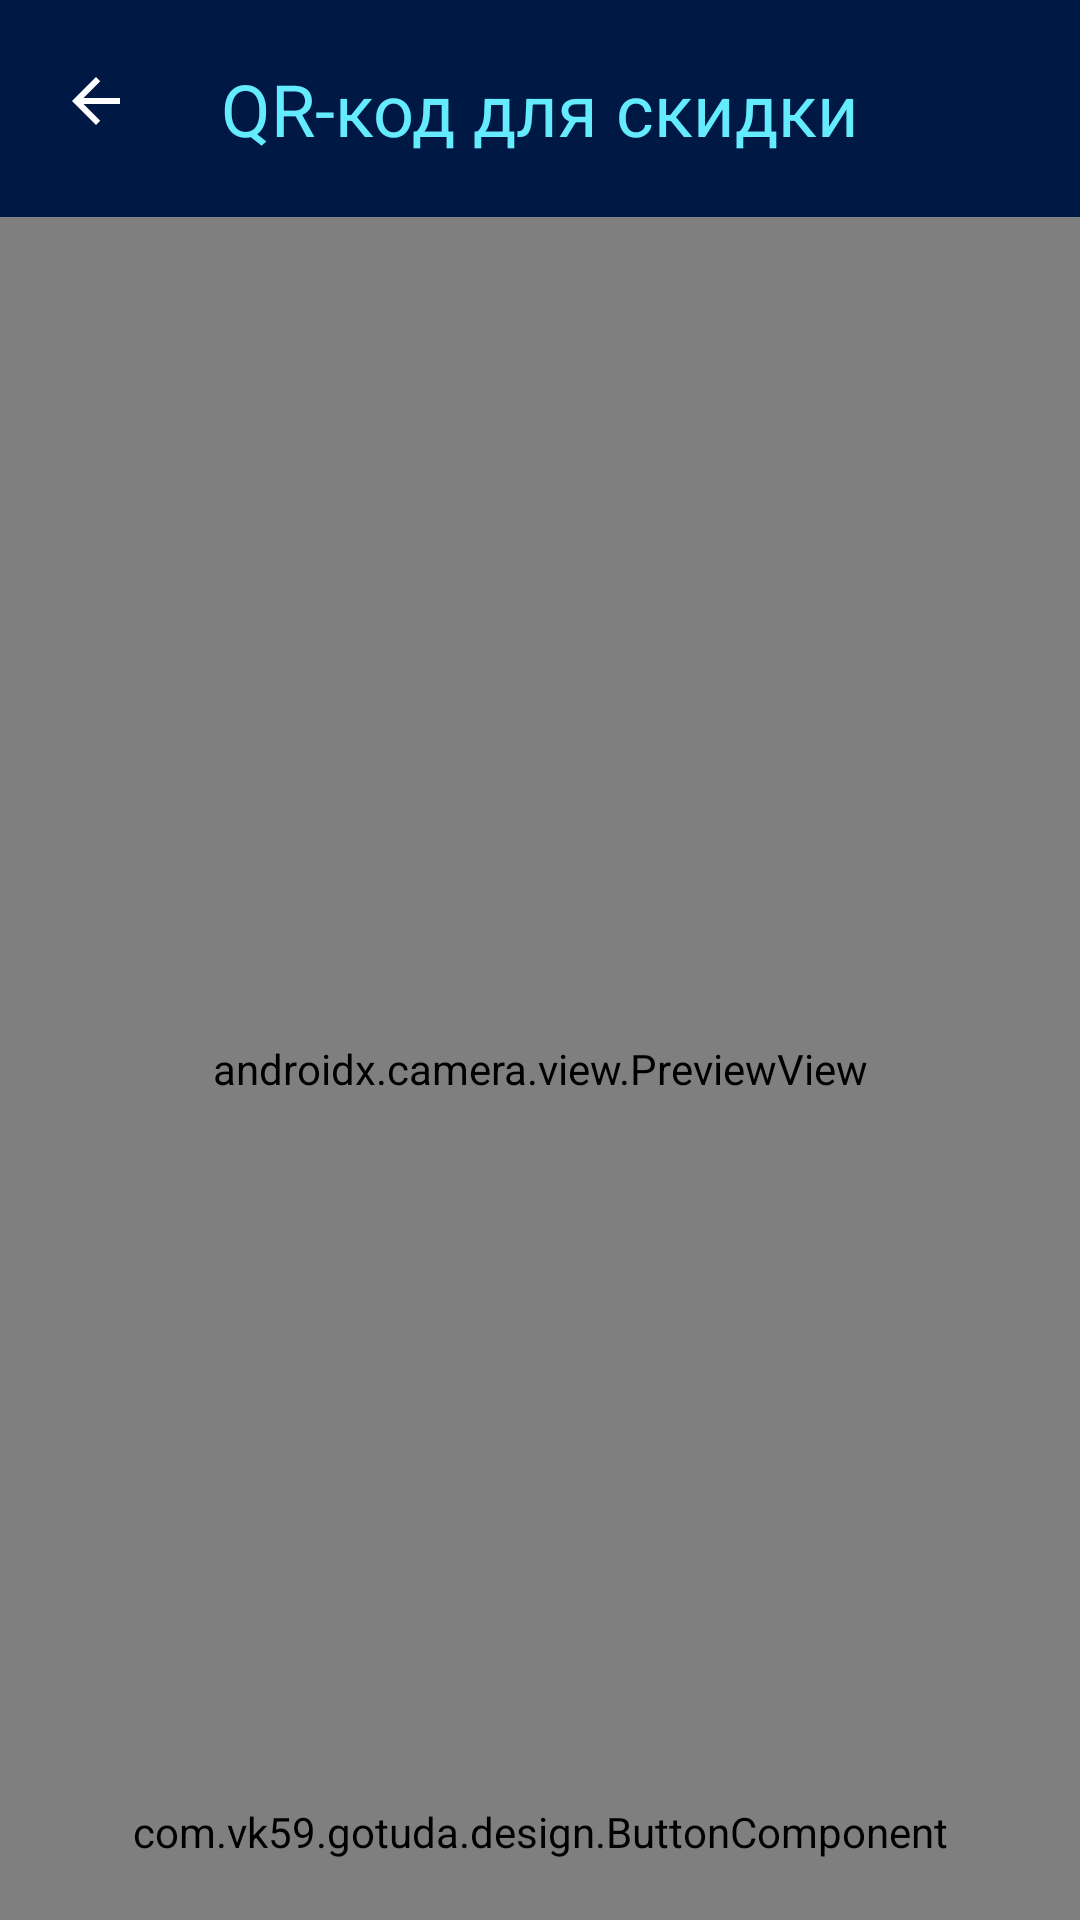

Icons on this 1080x1920 Android screen, each with the point to tap as (x=x, y=y):
back: (x=96, y=101)
